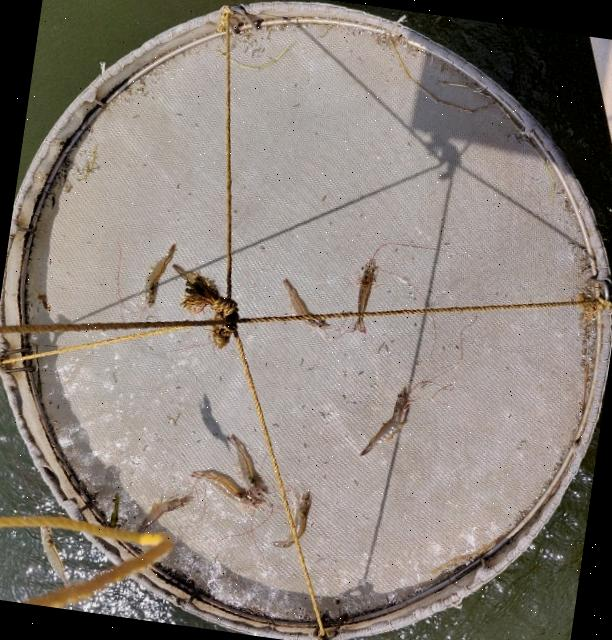shrimp: (360, 387, 409, 454), (227, 434, 266, 496), (192, 470, 263, 504), (283, 278, 327, 327), (275, 491, 311, 546), (143, 245, 175, 306), (137, 496, 191, 532), (353, 259, 377, 332)
